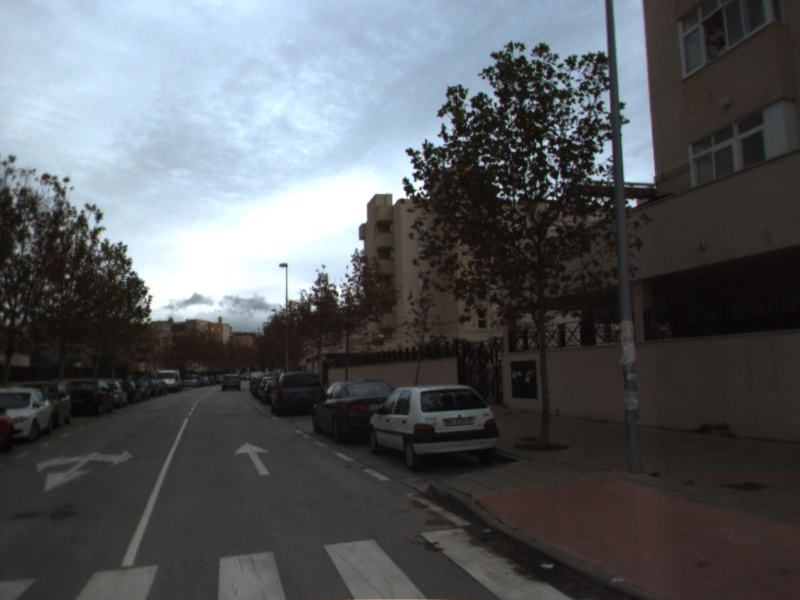STRAIGHT: (233, 441, 273, 476)
